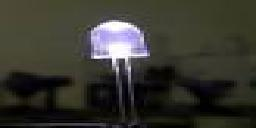LED: (87, 17, 150, 127)
